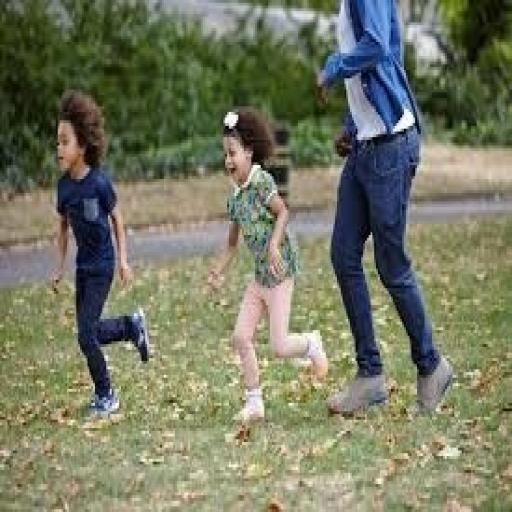running: (315, 0, 456, 420), (205, 104, 331, 428), (48, 86, 153, 420)
